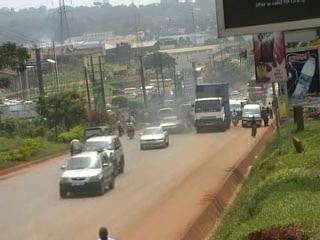Car: (56, 148, 116, 197), (80, 134, 126, 176), (138, 124, 170, 152), (80, 123, 113, 145), (159, 114, 184, 138)
Motorcycle: (68, 133, 82, 157), (125, 119, 136, 139), (229, 107, 239, 128), (185, 109, 194, 129)
